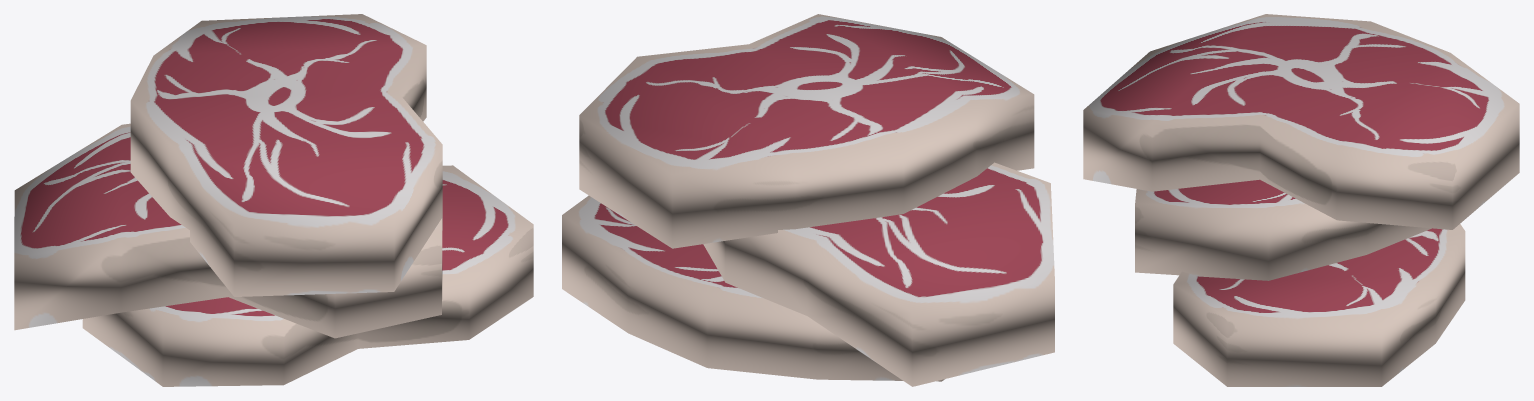
The model's file is BossDrop_Animel.fbx.
3 views of the same model, side by side, from view 1: azimuth 30°, elevation 25°; view 2: azimuth 150°, elevation 25°; view 3: azimuth 270°, elevation 25° (orthographic). The views are drawn at different scales.
Visible parts, largest first — view 1: pasted__pCube2, pasted__pCube1, AnimalBossItem:pasted__pCube1; view 2: pasted__pCube2, pasted__pCube1, AnimalBossItem:pasted__pCube1; view 3: pasted__pCube2, AnimalBossItem:pasted__pCube1, pasted__pCube1.
Part boxes in pixels (x1,y1,x2,y2): pasted__pCube2: (130,14,442,296); pasted__pCube1: (14,123,442,338); AnimalBossItem:pasted__pCube1: (82,165,533,386); pasted__pCube2: (579,14,1034,248); pasted__pCube1: (703,162,1054,386); AnimalBossItem:pasted__pCube1: (562,195,944,381); pasted__pCube2: (1083,14,1519,229); AnimalBossItem:pasted__pCube1: (1173,224,1465,386); pasted__pCube1: (1135,179,1431,280).
Size of the model in its own units: 3.87 by 1.78 by 3.32.
1 material, 1 textured.
